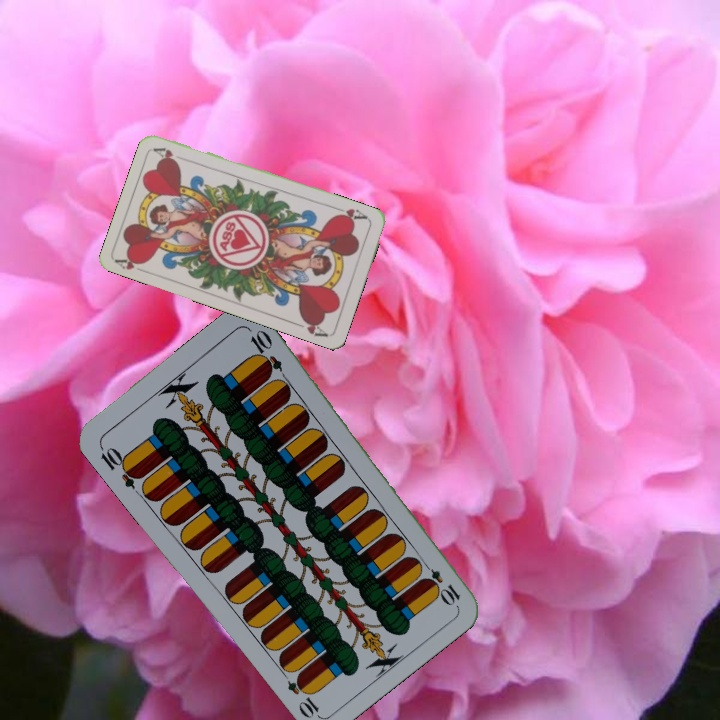E10: (95, 441, 145, 491), (416, 556, 463, 608)
HA: (113, 252, 152, 276), (330, 203, 371, 224)
